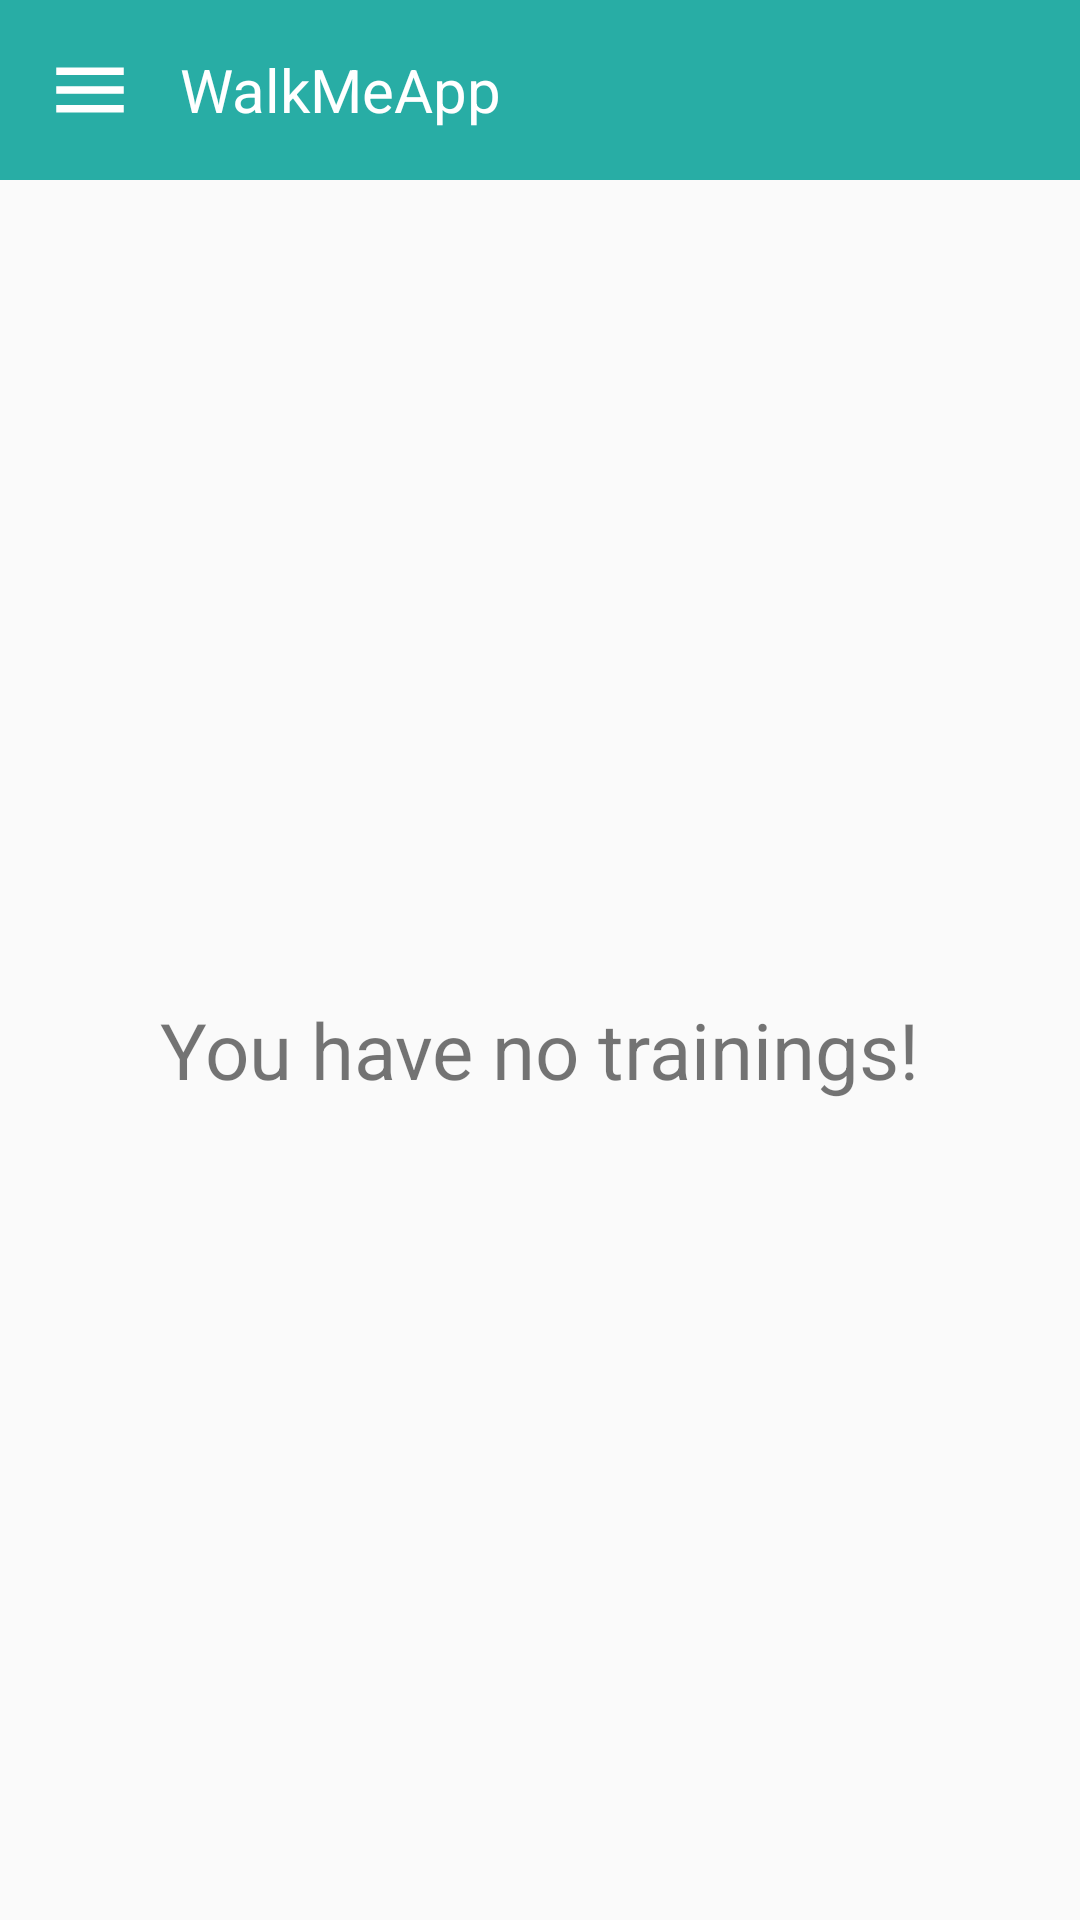

Icons on this 1080*1920 Android screen, each with the point to tap as [x,y]:
menu: [90,90]
